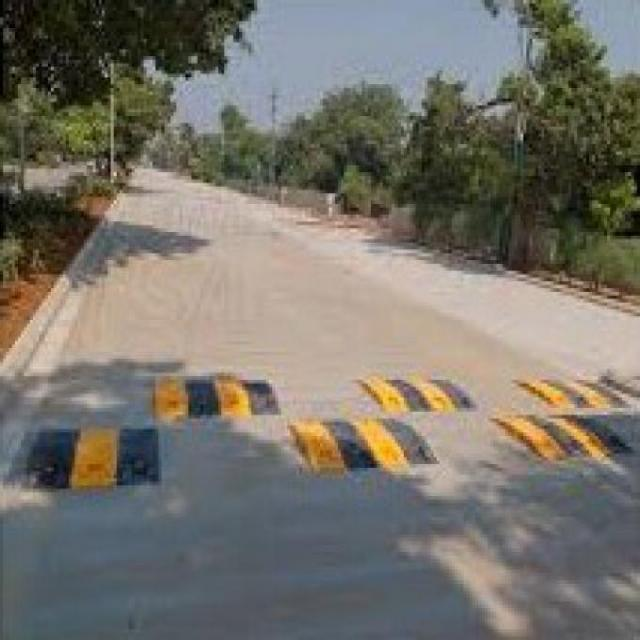Marked Bump: (33, 412, 162, 492), (278, 412, 434, 470), (493, 415, 635, 478), (137, 363, 290, 417), (358, 373, 470, 410), (520, 370, 627, 407)
